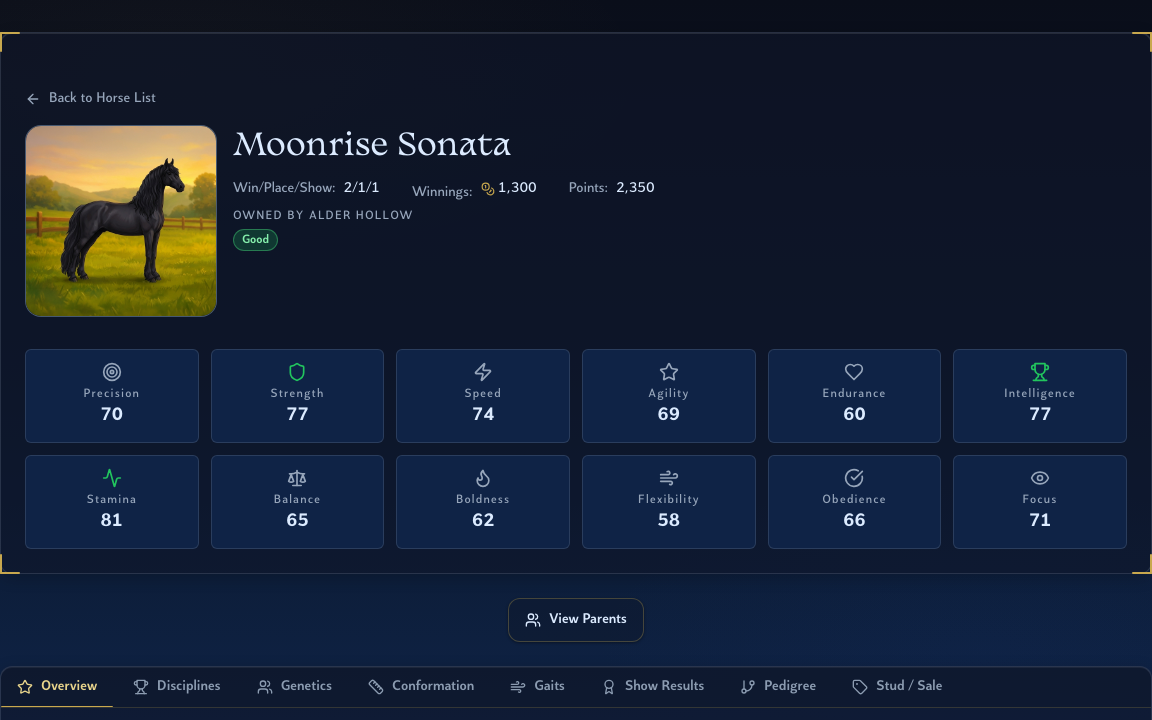
it: the horse page in visitor mode is the owner page, read-only › Stud / Sale carries the stud plaque and Breed button, and no owner stud or sale controls
Expected: the heading "Moonrise Sonata" is shown, [233, 131, 512, 163]
Click the tab "Stud / Sale" at point(898, 687), box [836, 667, 959, 707]
(page scrolled)
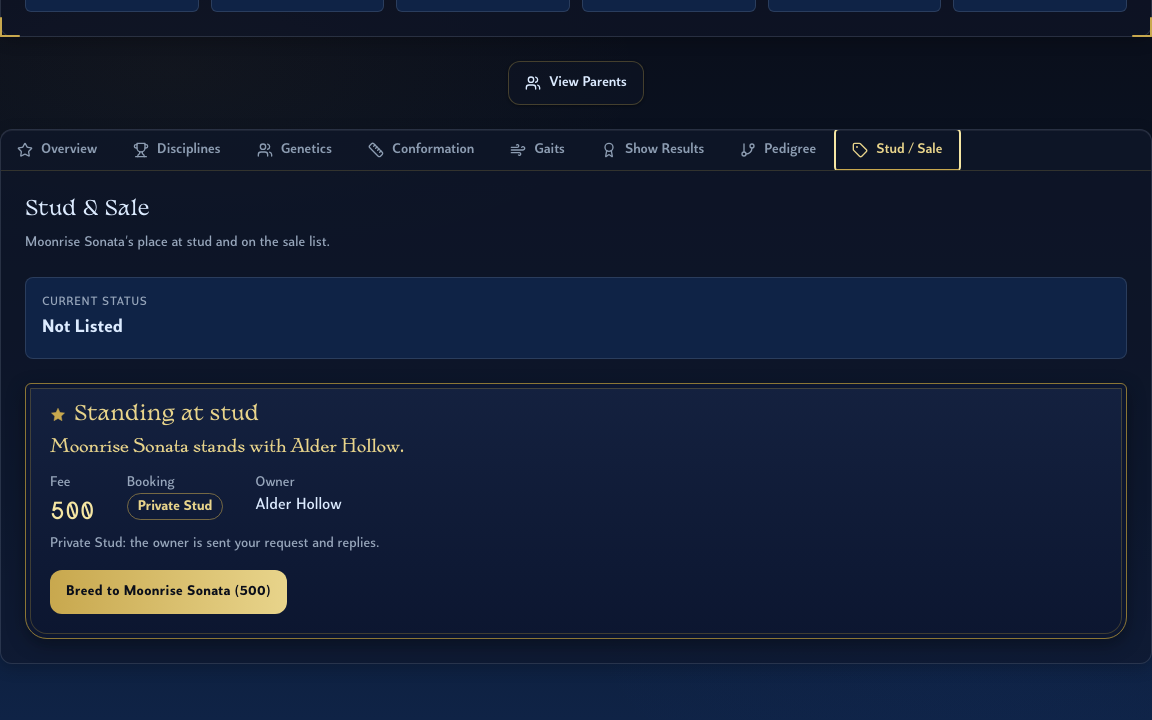
Expected: the heading "Standing at stud" is shown, [50, 404, 259, 425]
Expected: the text "Private Stud" is shown, [127, 493, 223, 520]
Expected: the button "Breed to Moonrise Sonata (500)" is enabled, [50, 570, 287, 614]
